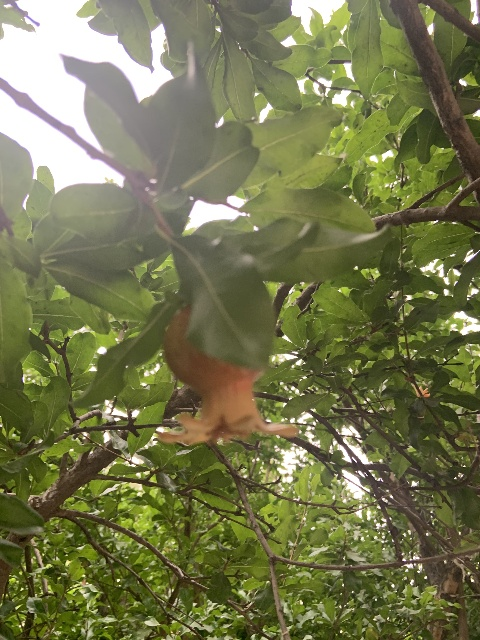early-fruit: (156, 304, 301, 447)
